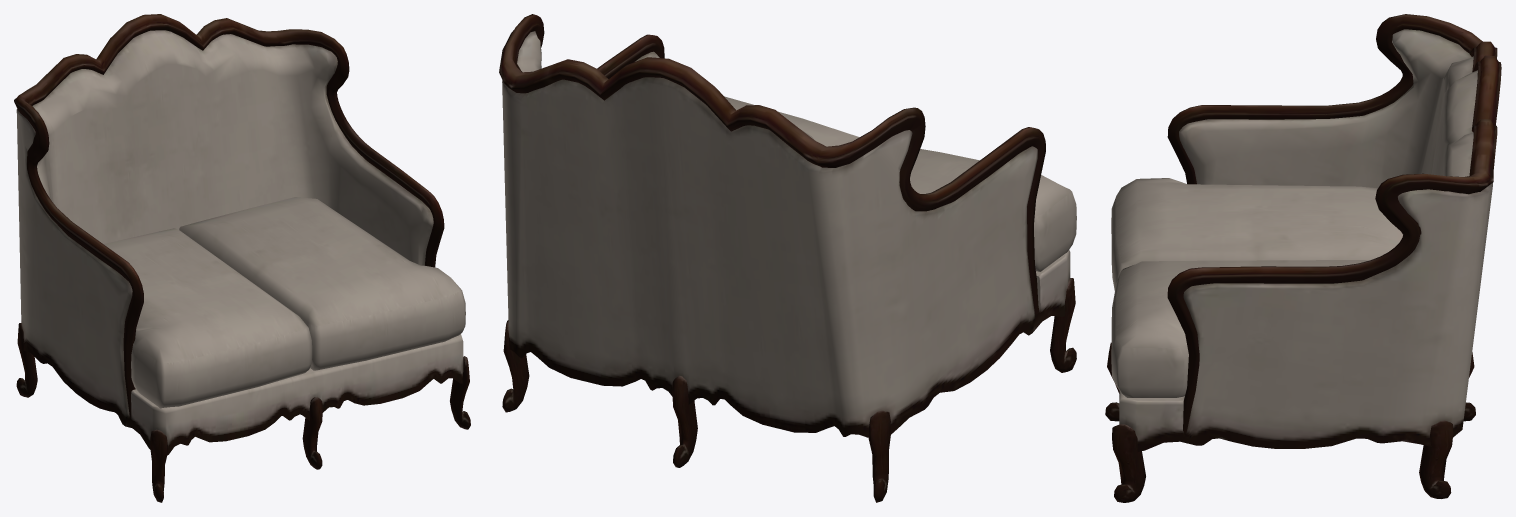
The model's file is ph-sofa-01.glb.
The picture shows the model from 3 angles, left to right: view 1: azimuth 30°, elevation 25°; view 2: azimuth 150°, elevation 25°; view 3: azimuth 270°, elevation 25°; orthographic projection. The views are drawn at different scales.
Parts seen in each view (by area): view 1: Sofa_01; view 2: Sofa_01; view 3: Sofa_01.
Part boxes in pixels (<box>): Sofa_01: <box>14,14,470,502</box>; Sofa_01: <box>499,14,1076,502</box>; Sofa_01: <box>1105,14,1501,502</box>.
Size of the model in its own units: 1 by 1 by 1.
1 material, 1 textured.
